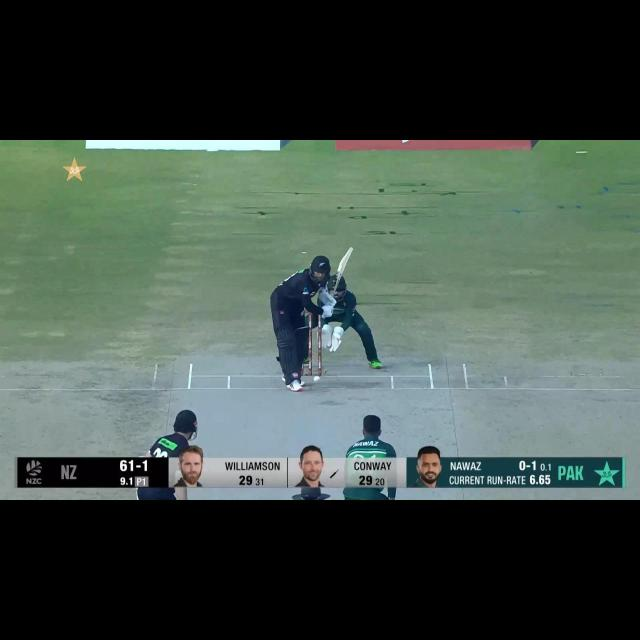bat: (326, 246, 354, 309)
toe: (340, 244, 357, 265)
